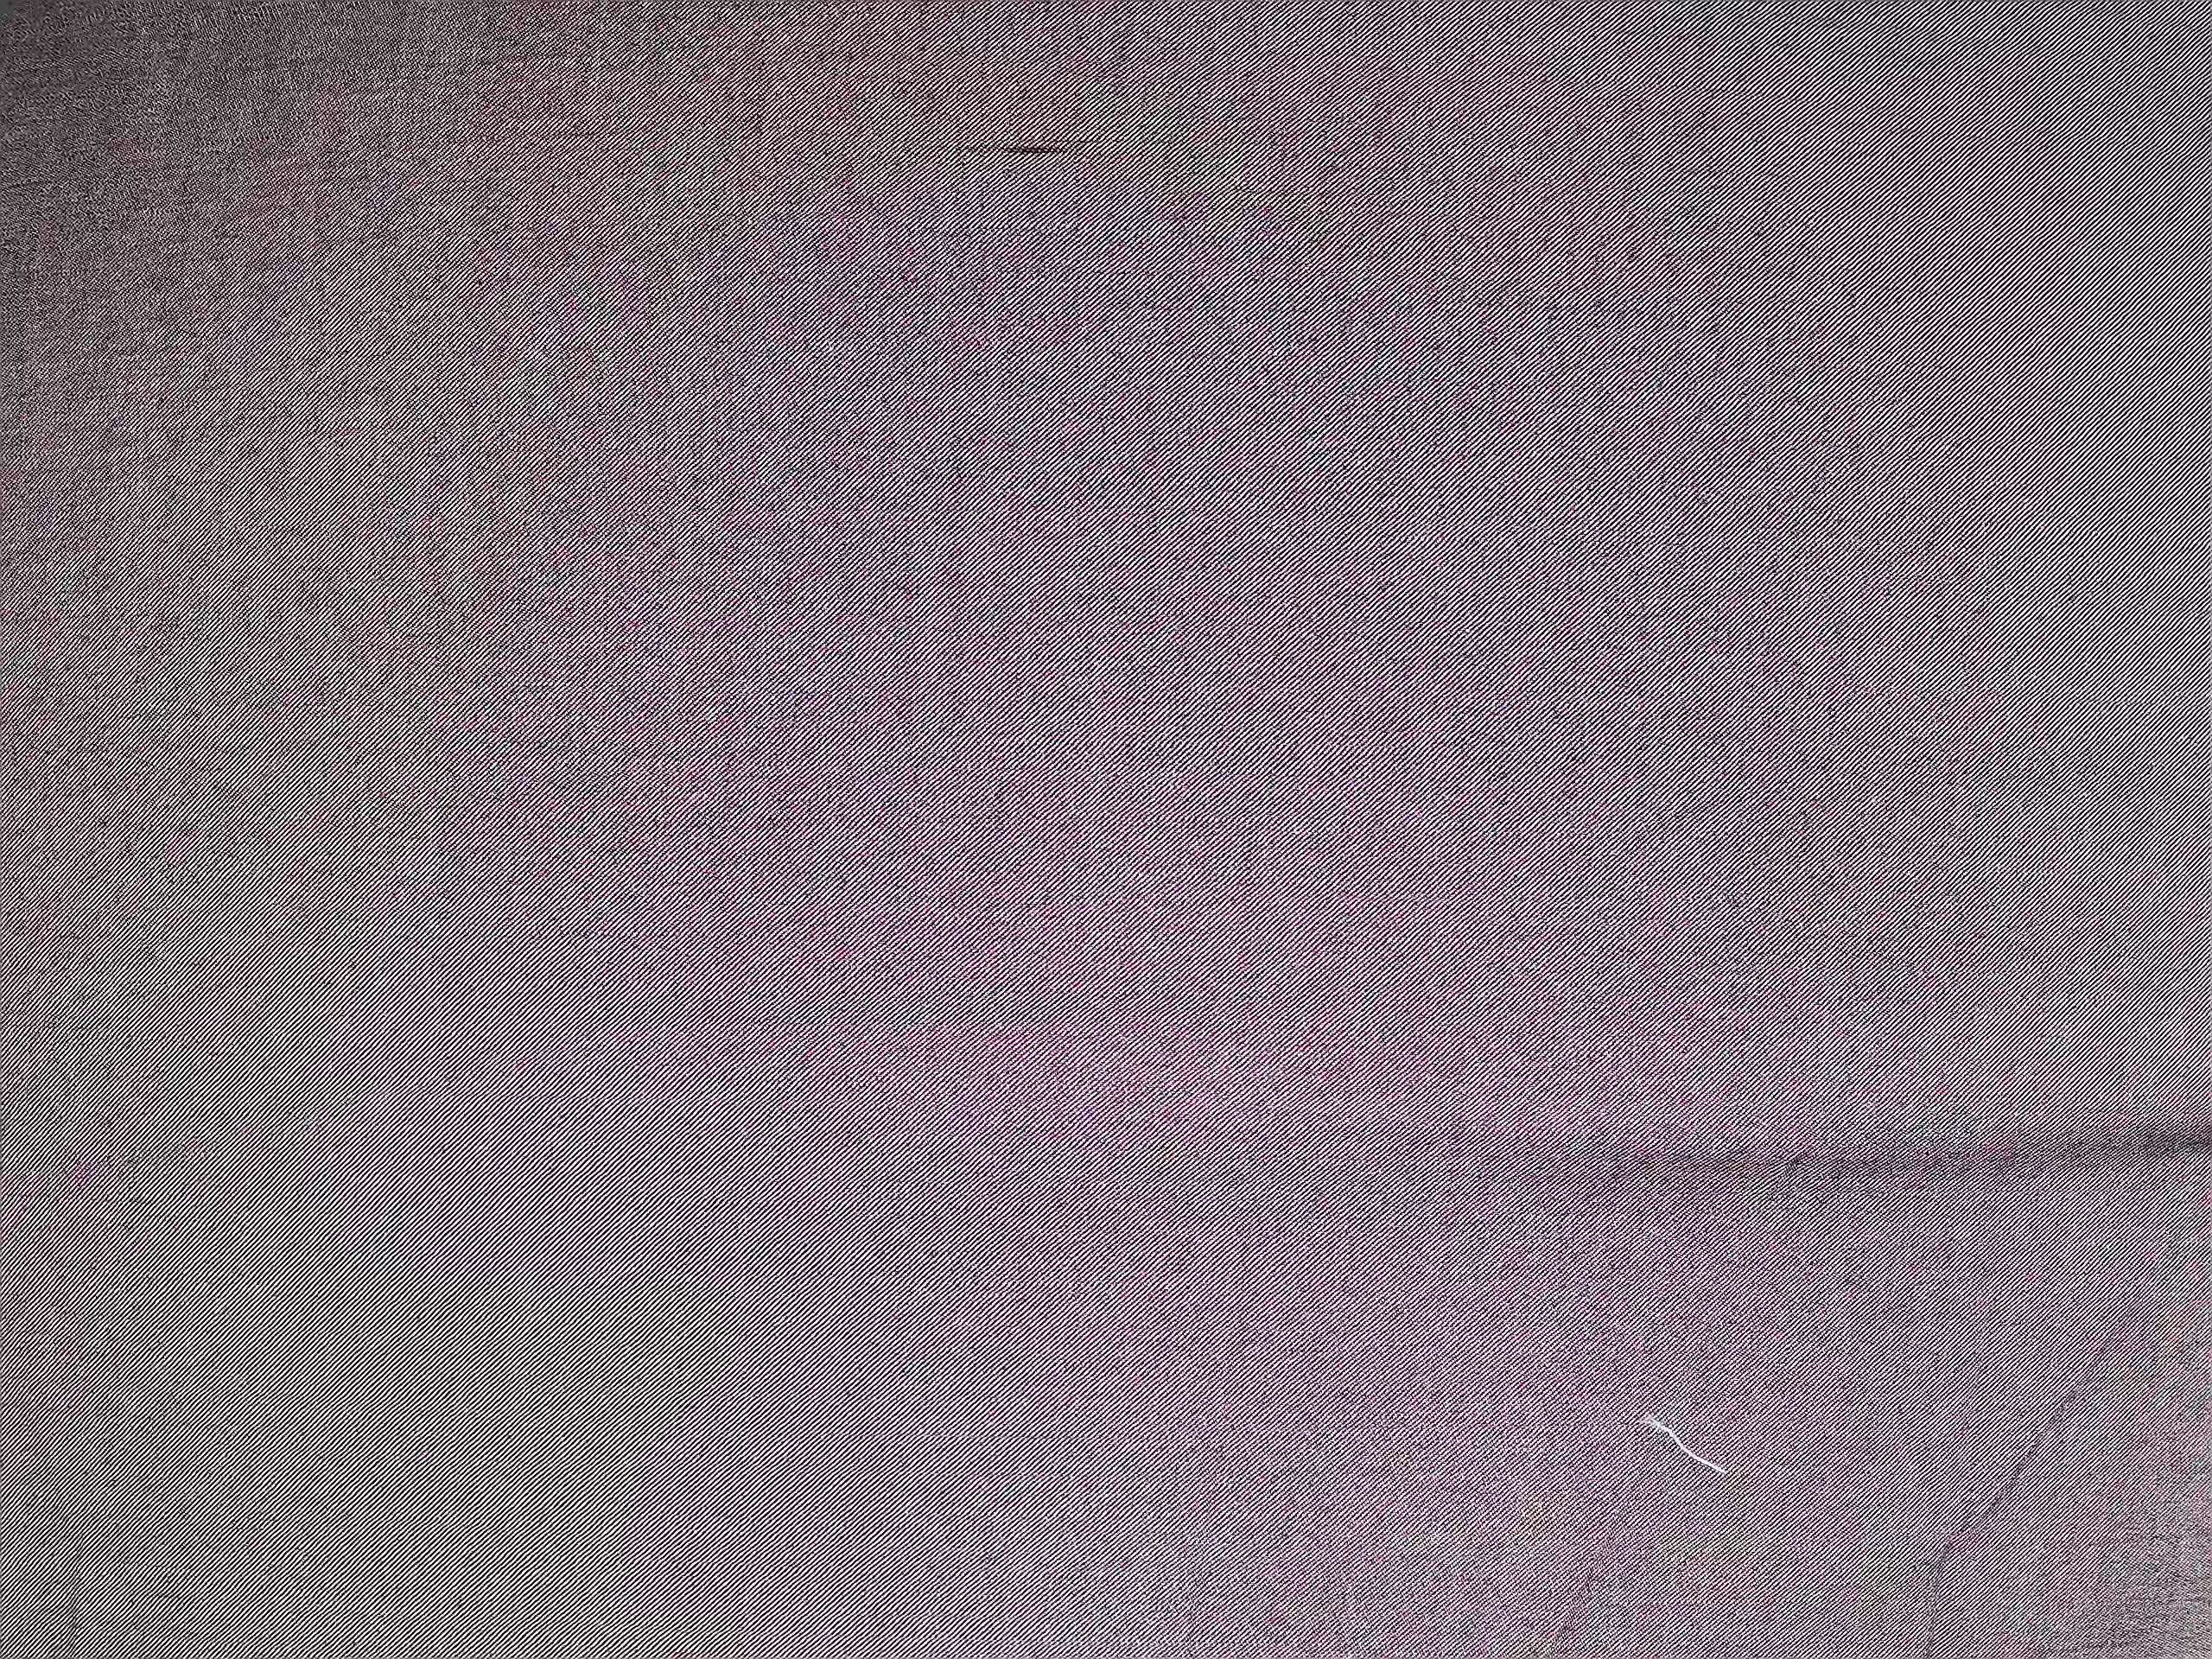thin-spinning: (946, 113, 1103, 178)
